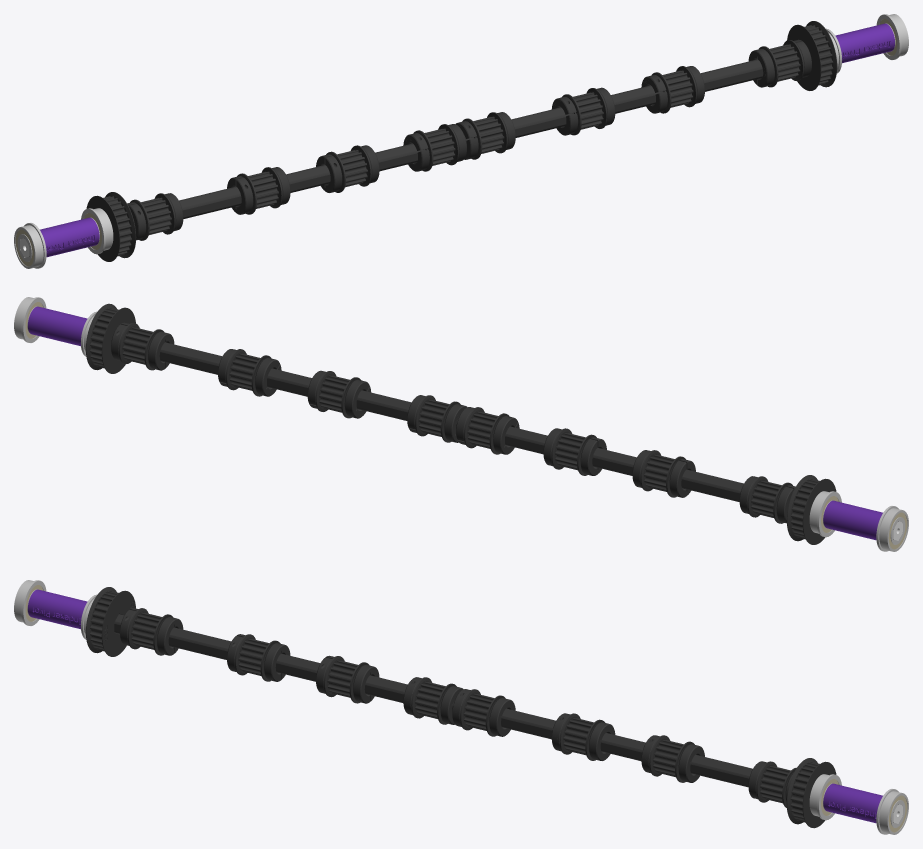
The picture shows the model from 3 angles, top to bottom: view 1: azimuth 30°, elevation 25°; view 2: azimuth 150°, elevation 25°; view 3: azimuth 330°, elevation 25°; orthographic projection.
Visible parts, largest first — view 1: 15t Aluminum Pulley (HTD 5mm, 15mm Wide, 1/2" Hex Bore) (×8), 1/2" Rounded Hex (26.5"L 13.75mm OD), 1/2" Hex Clamping Shaft Collar (×6), 0106 - Indexer Pivot Spacer (×2), 1/2" Hex Bore Bearing (1.125" OD, 0.313" WD, Shielded, Flang (×3), 26t Custom HTD 5mm Pulley (0.375" Wide, *0.5" Hex Bore) (×2), 26t Custom HTD 5mm Pulley (0.375" Wide, *0.5" Hex Bore)-Mirr; view 2: 15t Aluminum Pulley (HTD 5mm, 15mm Wide, 1/2" Hex Bore) (×8), 1/2" Rounded Hex (26.5"L 13.75mm OD), 1/2" Hex Clamping Shaft Collar (×6), 0106 - Indexer Pivot Spacer (×2), 26t Custom HTD 5mm Pulley (0.375" Wide, *0.5" Hex Bore) (×2), 1/2" Hex Bore Bearing (1.125" OD, 0.313" WD, Shielded, Flang (×3), 26t Custom HTD 5mm Pulley (0.375" Wide, *0.5" Hex Bore)-Mirr; view 3: 15t Aluminum Pulley (HTD 5mm, 15mm Wide, 1/2" Hex Bore) (×8), 1/2" Rounded Hex (26.5"L 13.75mm OD), 1/2" Hex Clamping Shaft Collar (×6), 0106 - Indexer Pivot Spacer (×2), 1/2" Hex Bore Bearing (1.125" OD, 0.313" WD, Shielded, Flang (×3), 26t Custom HTD 5mm Pulley (0.375" Wide, *0.5" Hex Bore) (×2), 26t Custom HTD 5mm Pulley (0.375" Wide, *0.5" Hex Bore)-Mirr.
Part boxes in pixels (x1,y1,x2,y2): 15t Aluminum Pulley (HTD 5mm, 15mm Wide, 1/2" Hex Bore) (×8): (130,40,804,240); 1/2" Rounded Hex (26.5"L 13.75mm OD): (20,59,763,257); 1/2" Hex Clamping Shaft Collar (×6): (227,49,774,214); 0106 - Indexer Pivot Spacer (×2): (40,23,894,257); 1/2" Hex Bore Bearing (1.125" OD, 0.313" WD, Shielded, Flang (×3): (14,14,908,268); 26t Custom HTD 5mm Pulley (0.375" Wide, *0.5" Hex Bore) (×2): (787,21,837,90); 26t Custom HTD 5mm Pulley (0.375" Wide, *0.5" Hex Bore)-Mirr: (86,192,136,261); 15t Aluminum Pulley (HTD 5mm, 15mm Wide, 1/2" Hex Bore) (×8): (118,323,792,523); 1/2" Rounded Hex (26.5"L 13.75mm OD): (159,342,902,540); 1/2" Hex Clamping Shaft Collar (×6): (148,331,695,497); 0106 - Indexer Pivot Spacer (×2): (28,306,882,540); 26t Custom HTD 5mm Pulley (0.375" Wide, *0.5" Hex Bore) (×2): (85,303,135,373); 1/2" Hex Bore Bearing (1.125" OD, 0.313" WD, Shielded, Flang (×3): (14,297,908,551); 26t Custom HTD 5mm Pulley (0.375" Wide, *0.5" Hex Bore)-Mirr: (786,475,836,544); 15t Aluminum Pulley (HTD 5mm, 15mm Wide, 1/2" Hex Bore) (×8): (127,608,796,807); 1/2" Rounded Hex (26.5"L 13.75mm OD): (114,614,902,823); 1/2" Hex Clamping Shaft Collar (×6): (157,617,704,782); 0106 - Indexer Pivot Spacer (×2): (28,589,882,823); 1/2" Hex Bore Bearing (1.125" OD, 0.313" WD, Shielded, Flang (×3): (14,580,908,834); 26t Custom HTD 5mm Pulley (0.375" Wide, *0.5" Hex Bore) (×2): (786,758,836,828); 26t Custom HTD 5mm Pulley (0.375" Wide, *0.5" Hex Bore)-Mirr: (85,587,135,656).
Bounding box in the file's own units: 0.6731 × 0.0453 × 0.0454.
